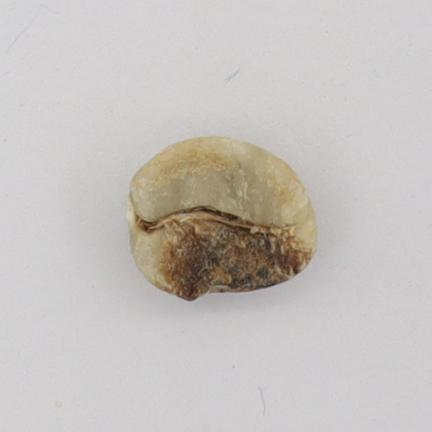partial-black: (128, 137, 316, 300)
